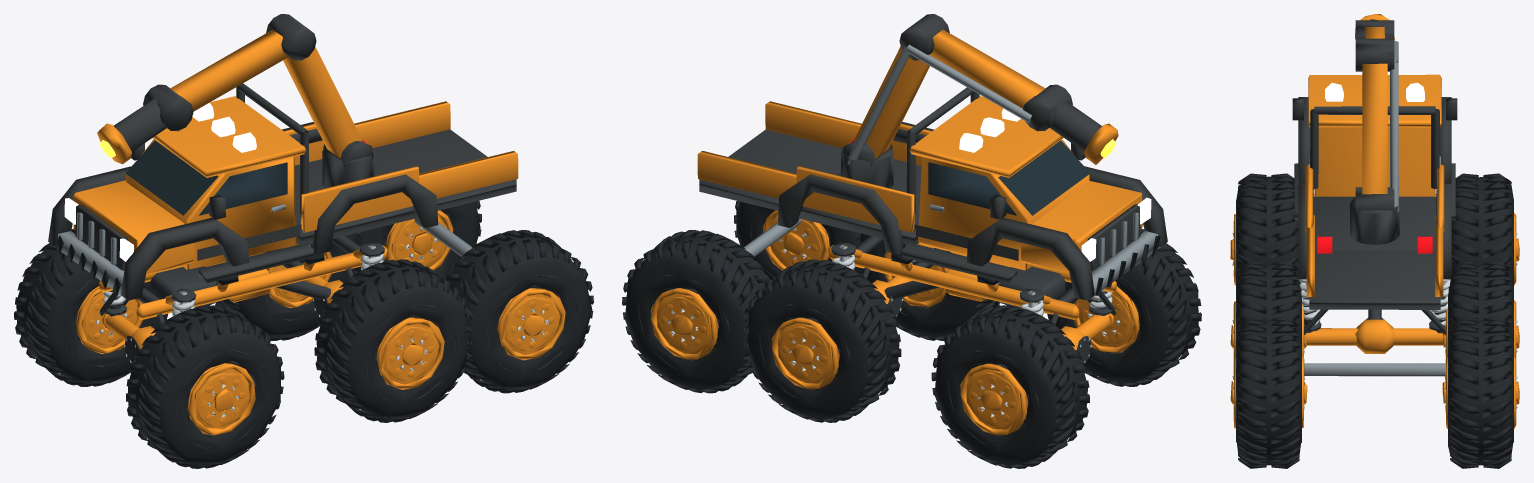
Rendered from BeamBuilder_LOD1.fbx.
3 renders of one model, left to right at view 1: azimuth 30°, elevation 25°; view 2: azimuth 150°, elevation 25°; view 3: azimuth 270°, elevation 25°, orthographic. The views are drawn at different scales.
Parts seen in each view (by area): view 1: BeamBuilder_LOD1_sprung_body_Geometry, BeamBuilder_LOD1_FL_Spin_Geometry, BeamBuilder_LOD1_RL_Spin_Geometry, BeamBuilder_LOD1_RL_Spin.001_Geometry, BeamBuilder_LOD1_FR_Spin_Geometry, BeamBuilder_LOD1_RR_Spin.001_Geometry, BeamBuilder_LOD1_RR_Spin_Geometry, BeamBuilder_LOD1_ToolPivot_Geometry, BeamBuilder_LOD1_FRONT_axle_Geometry, BeamBuilder_LOD1_Root_Geometry; view 2: BeamBuilder_LOD1_sprung_body_Geometry, BeamBuilder_LOD1_FR_Spin_Geometry, BeamBuilder_LOD1_RR_Spin_Geometry, BeamBuilder_LOD1_RR_Spin.001_Geometry, BeamBuilder_LOD1_FL_Spin_Geometry, BeamBuilder_LOD1_RL_Spin.001_Geometry, BeamBuilder_LOD1_RL_Spin_Geometry, BeamBuilder_LOD1_ToolPivot_Geometry, BeamBuilder_LOD1_FRONT_axle_Geometry, BeamBuilder_LOD1_Root_Geometry; view 3: BeamBuilder_LOD1_sprung_body_Geometry, BeamBuilder_LOD1_RR_Spin.001_Geometry, BeamBuilder_LOD1_RL_Spin.001_Geometry, BeamBuilder_LOD1_FR_Spin_Geometry, BeamBuilder_LOD1_FL_Spin_Geometry, BeamBuilder_LOD1_RR_Spin_Geometry, BeamBuilder_LOD1_RL_Spin_Geometry, BeamBuilder_LOD1_REAR_axle_Geometry, BeamBuilder_LOD1_Root_Geometry, BeamBuilder_LOD1_REAR_shock_-1_Geometry, BeamBuilder_LOD1_REAR_shock_1_Geometry.
Boxes of the visible parts, x1,y1,x2,y2 form: BeamBuilder_LOD1_sprung_body_Geometry: (48, 14, 518, 319); BeamBuilder_LOD1_FL_Spin_Geometry: (126, 305, 284, 468); BeamBuilder_LOD1_RL_Spin_Geometry: (314, 259, 471, 422); BeamBuilder_LOD1_RL_Spin.001_Geometry: (445, 230, 593, 393); BeamBuilder_LOD1_FR_Spin_Geometry: (14, 229, 167, 386); BeamBuilder_LOD1_RR_Spin.001_Geometry: (354, 201, 481, 279); BeamBuilder_LOD1_RR_Spin_Geometry: (215, 233, 359, 340); BeamBuilder_LOD1_ToolPivot_Geometry: (97, 98, 166, 164); BeamBuilder_LOD1_FRONT_axle_Geometry: (105, 315, 155, 363); BeamBuilder_LOD1_Root_Geometry: (99, 244, 354, 325); BeamBuilder_LOD1_sprung_body_Geometry: (697, 14, 1167, 319); BeamBuilder_LOD1_FR_Spin_Geometry: (931, 305, 1089, 468); BeamBuilder_LOD1_RR_Spin_Geometry: (743, 259, 901, 422); BeamBuilder_LOD1_RR_Spin.001_Geometry: (622, 230, 770, 393); BeamBuilder_LOD1_FL_Spin_Geometry: (1045, 228, 1201, 386); BeamBuilder_LOD1_RL_Spin.001_Geometry: (734, 201, 861, 279); BeamBuilder_LOD1_RL_Spin_Geometry: (857, 233, 1000, 340); BeamBuilder_LOD1_ToolPivot_Geometry: (1049, 100, 1118, 164); BeamBuilder_LOD1_FRONT_axle_Geometry: (1061, 314, 1110, 364); BeamBuilder_LOD1_Root_Geometry: (848, 244, 1116, 325); BeamBuilder_LOD1_sprung_body_Geometry: (1292, 20, 1457, 376); BeamBuilder_LOD1_RR_Spin.001_Geometry: (1442, 316, 1519, 468); BeamBuilder_LOD1_RL_Spin.001_Geometry: (1230, 316, 1307, 468); BeamBuilder_LOD1_FR_Spin_Geometry: (1451, 173, 1519, 285); BeamBuilder_LOD1_FL_Spin_Geometry: (1230, 173, 1298, 285); BeamBuilder_LOD1_RR_Spin_Geometry: (1442, 260, 1519, 358); BeamBuilder_LOD1_RL_Spin_Geometry: (1230, 260, 1307, 359); BeamBuilder_LOD1_REAR_axle_Geometry: (1306, 317, 1443, 353); BeamBuilder_LOD1_Root_Geometry: (1304, 309, 1445, 335); BeamBuilder_LOD1_REAR_shock_-1_Geometry: (1297, 264, 1321, 331); BeamBuilder_LOD1_REAR_shock_1_Geometry: (1429, 263, 1452, 331).
Bounding box in the file's own units: 705 × 544 × 414.
